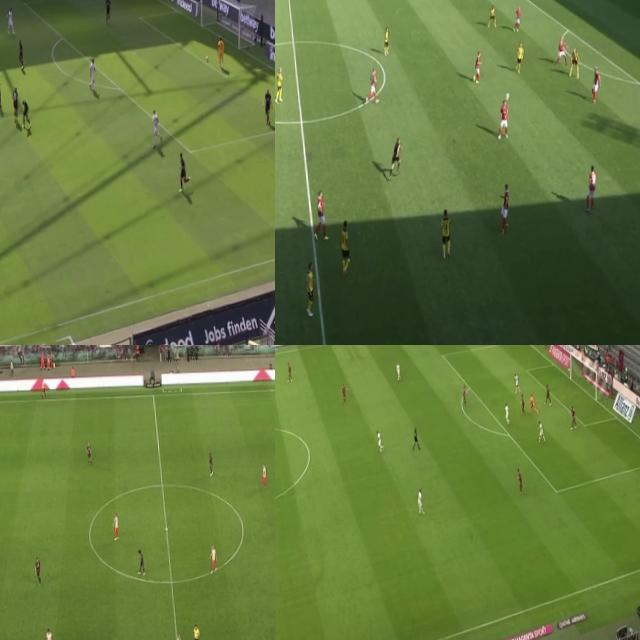ball: (504, 88, 512, 102), (203, 50, 210, 64), (528, 398, 530, 404)
player: (314, 188, 329, 246), (302, 260, 316, 316), (338, 217, 351, 271), (438, 208, 453, 254), (498, 180, 512, 228), (587, 154, 597, 213), (365, 64, 378, 106), (149, 110, 162, 148), (178, 152, 190, 192), (215, 32, 226, 74), (590, 62, 600, 102), (262, 88, 272, 126), (499, 96, 508, 138), (471, 48, 482, 82), (569, 45, 578, 83), (10, 86, 20, 118), (275, 63, 283, 103), (22, 98, 31, 132), (514, 4, 524, 34), (557, 36, 567, 66), (516, 42, 524, 76), (34, 553, 43, 583), (208, 546, 218, 572), (135, 546, 144, 574), (88, 57, 96, 88), (382, 22, 390, 52), (512, 368, 521, 394), (392, 360, 401, 386), (6, 7, 14, 36), (18, 41, 25, 72), (103, 0, 112, 24), (285, 361, 294, 385), (488, 2, 496, 28), (536, 422, 544, 448), (570, 404, 578, 430), (418, 486, 424, 520), (206, 448, 214, 473), (514, 468, 522, 493), (528, 394, 538, 412), (261, 461, 267, 489), (504, 401, 511, 425), (518, 394, 526, 414), (374, 431, 382, 451), (114, 513, 120, 539), (544, 384, 552, 403), (44, 625, 53, 640), (341, 384, 348, 399), (88, 442, 92, 464), (462, 384, 466, 404)
